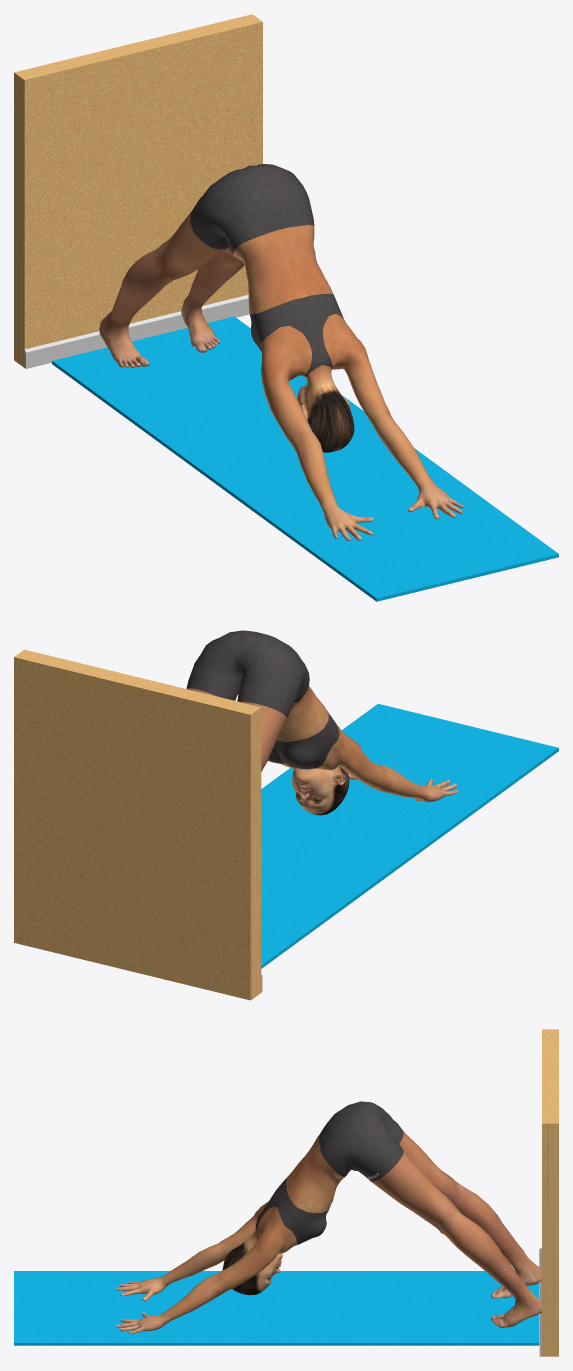
The model's file is adho_mukha_svanasana.glb.
3 views of the same model, one above another, from view 1: azimuth 30°, elevation 25°; view 2: azimuth 150°, elevation 25°; view 3: azimuth 270°, elevation 25° (orthographic). The views are drawn at different scales.
Visible parts, largest first — view 1: Wall5_jpg-material, Mat-one-piece_jpg-material, Lily_Texture01_06_2016_jpg-material, mesh; view 2: Wall5_jpg-material, Mat-one-piece_jpg-material, Lily_Texture01_06_2016_jpg-material; view 3: Mat-one-piece_jpg-material, Lily_Texture01_06_2016_jpg-material, Wall5_jpg-material.
Part boxes in pixels (<box>): Wall5_jpg-material: <box>14,14,262,367</box>; Mat-one-piece_jpg-material: <box>52,316,558,601</box>; Lily_Texture01_06_2016_jpg-material: <box>99,164,464,540</box>; mesh: <box>24,295,249,368</box>; Wall5_jpg-material: <box>14,649,261,1000</box>; Mat-one-piece_jpg-material: <box>261,703,558,968</box>; Lily_Texture01_06_2016_jpg-material: <box>186,630,458,815</box>; Mat-one-piece_jpg-material: <box>14,1271,539,1345</box>; Lily_Texture01_06_2016_jpg-material: <box>116,1101,541,1333</box>; Wall5_jpg-material: <box>542,1029,558,1356</box>.
Size of the model in its own units: 2.62 by 3.03 by 6.4.
4 materials, 3 textured.
